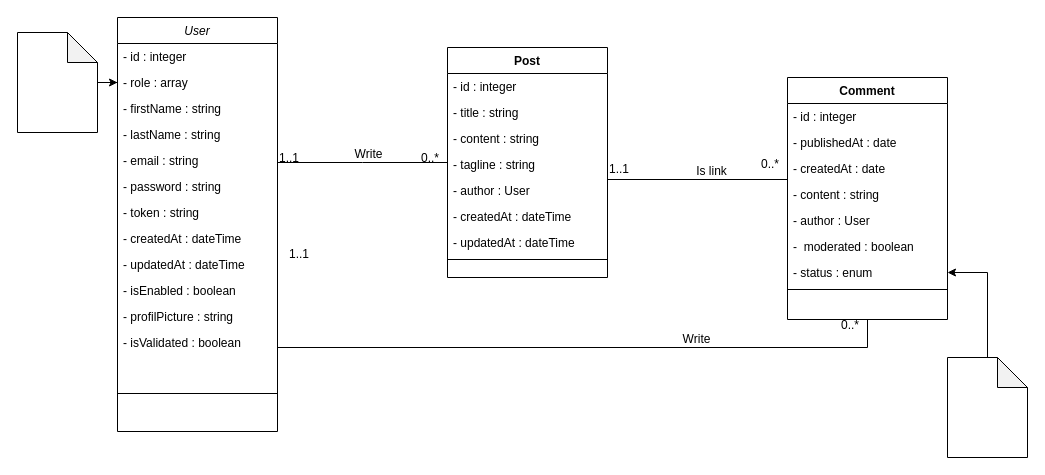
This 1045x475 diagram has some shape labels left out. Here are the shapes that lost their labels. From the top down, the centre of each, then its label:
the point at 57,82: [ admin, user ]
the point at 987,407: pending, validated, rejected
